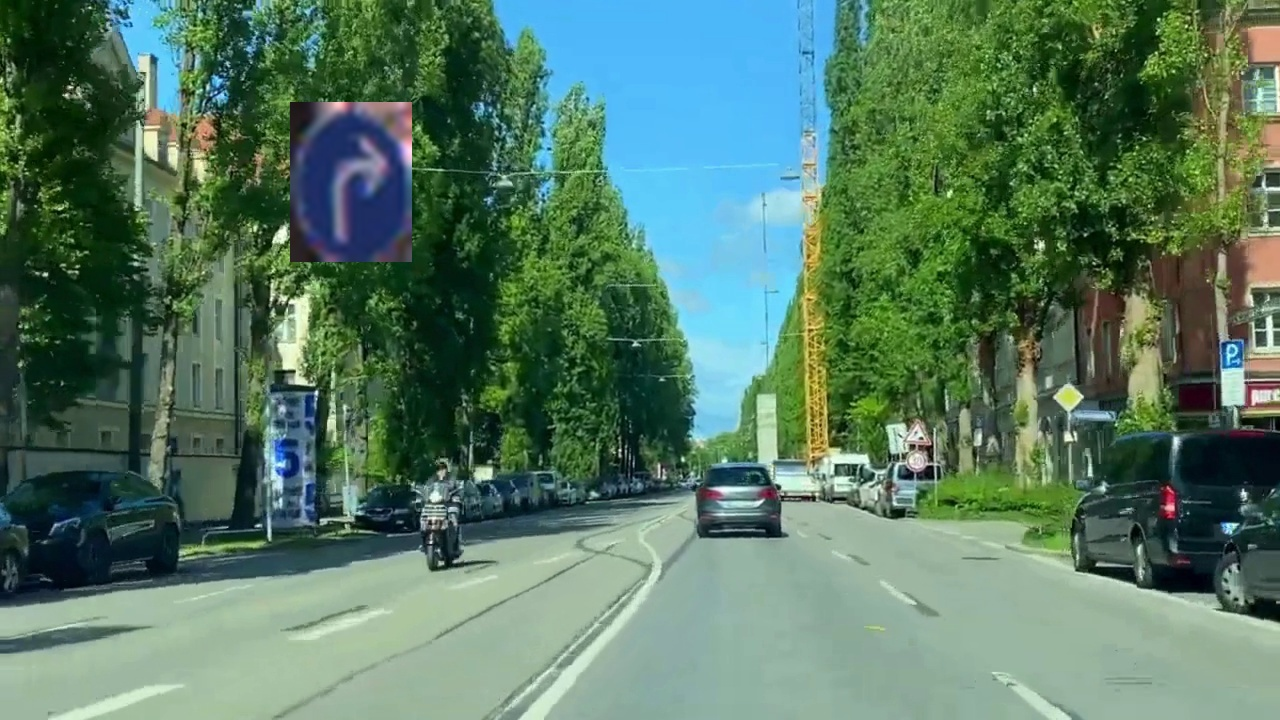Turn right: (290, 102, 412, 262)
